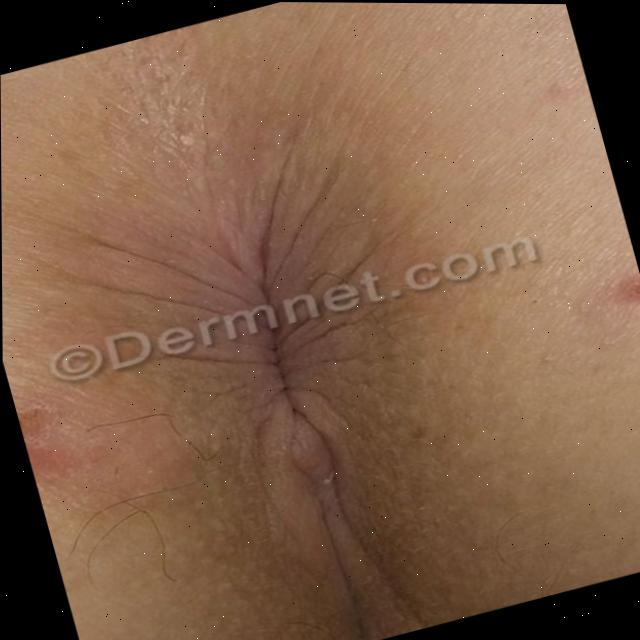Eczema: (11, 374, 120, 528)
